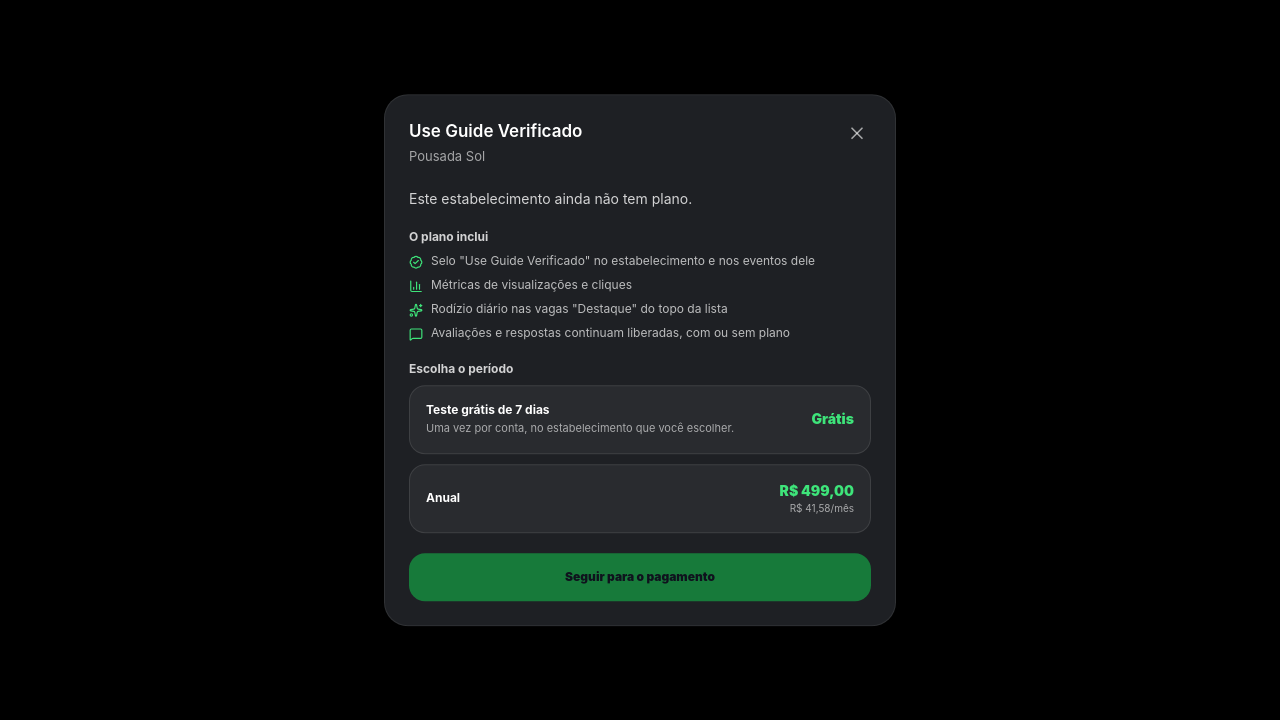
Test case: ListingPlanDialog (D11) › teste grátis ativa no estabelecimento
This screenshot has width=1280, height=720.
Click the button "Teste grátis de 7 dias".
click(640, 420)  # box [409,385,871,454]
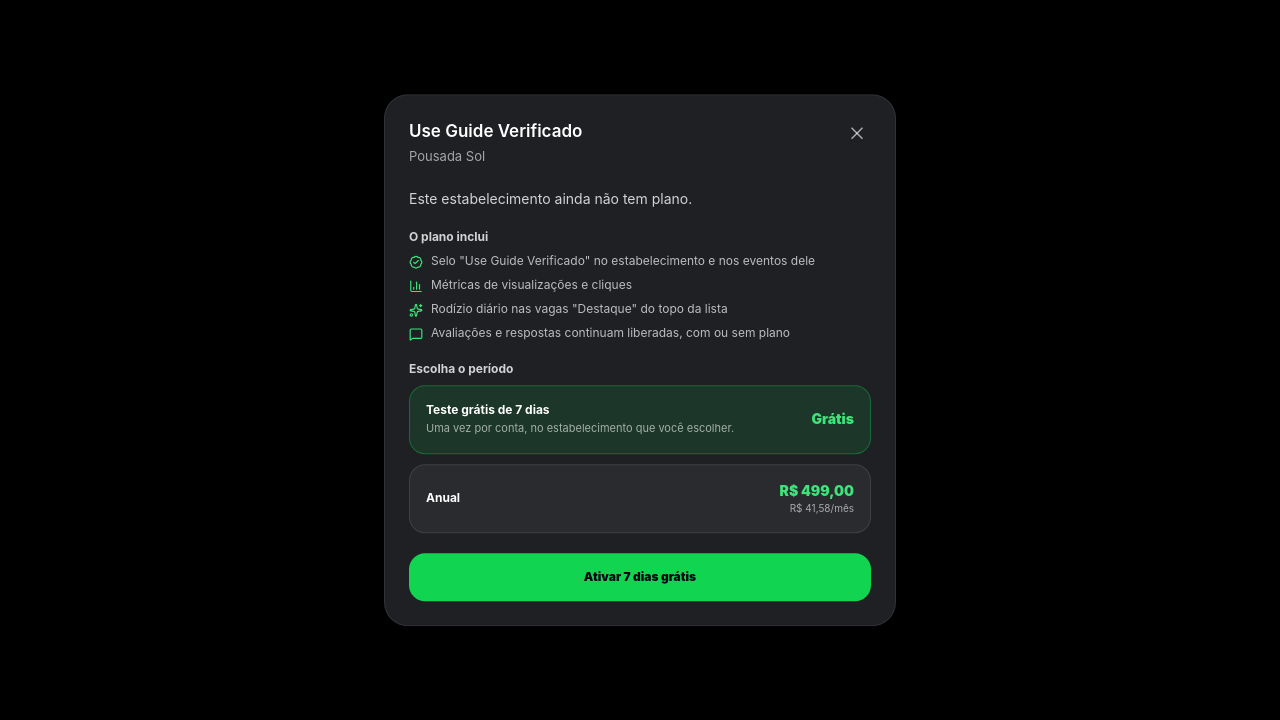
Click the button "Ativar 7 dias grátis".
click(640, 577)  # box [409,553,871,601]
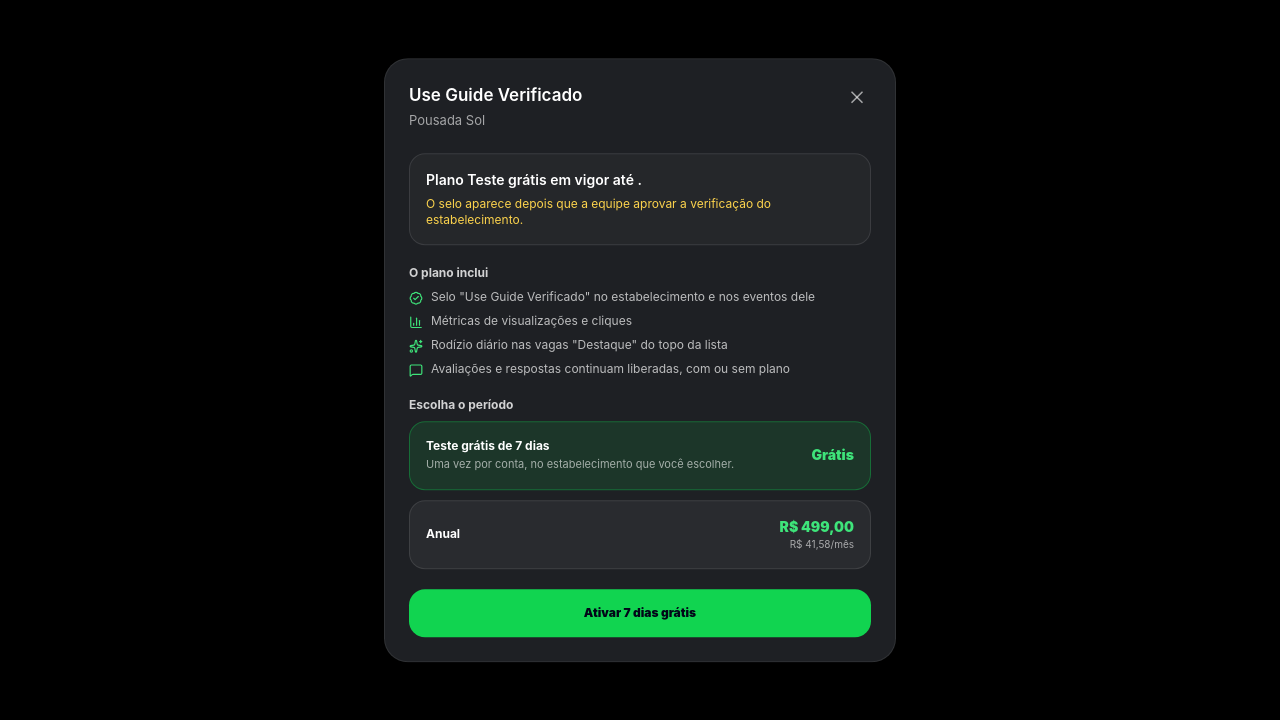
expect the text "Plano Teste grátis em vigor até ." is shown: met, box [426,171,642,188]
